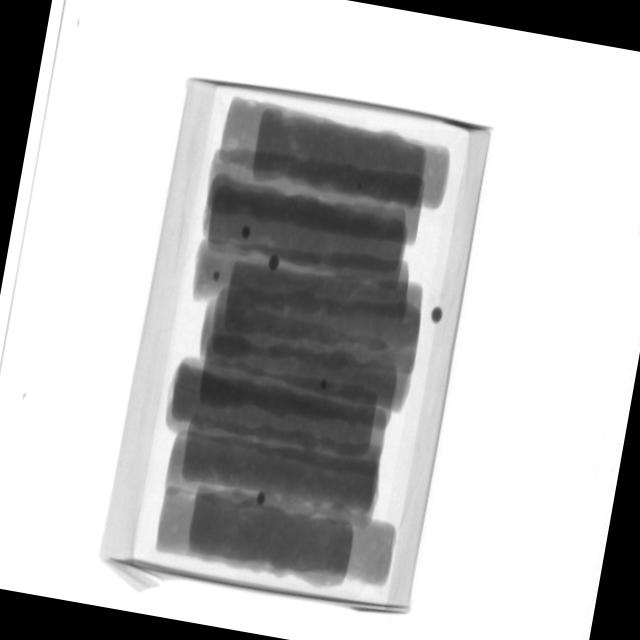ym: (267, 255, 280, 273), (431, 306, 444, 322), (257, 490, 267, 506), (241, 227, 251, 239), (320, 380, 329, 391), (213, 271, 222, 282)
